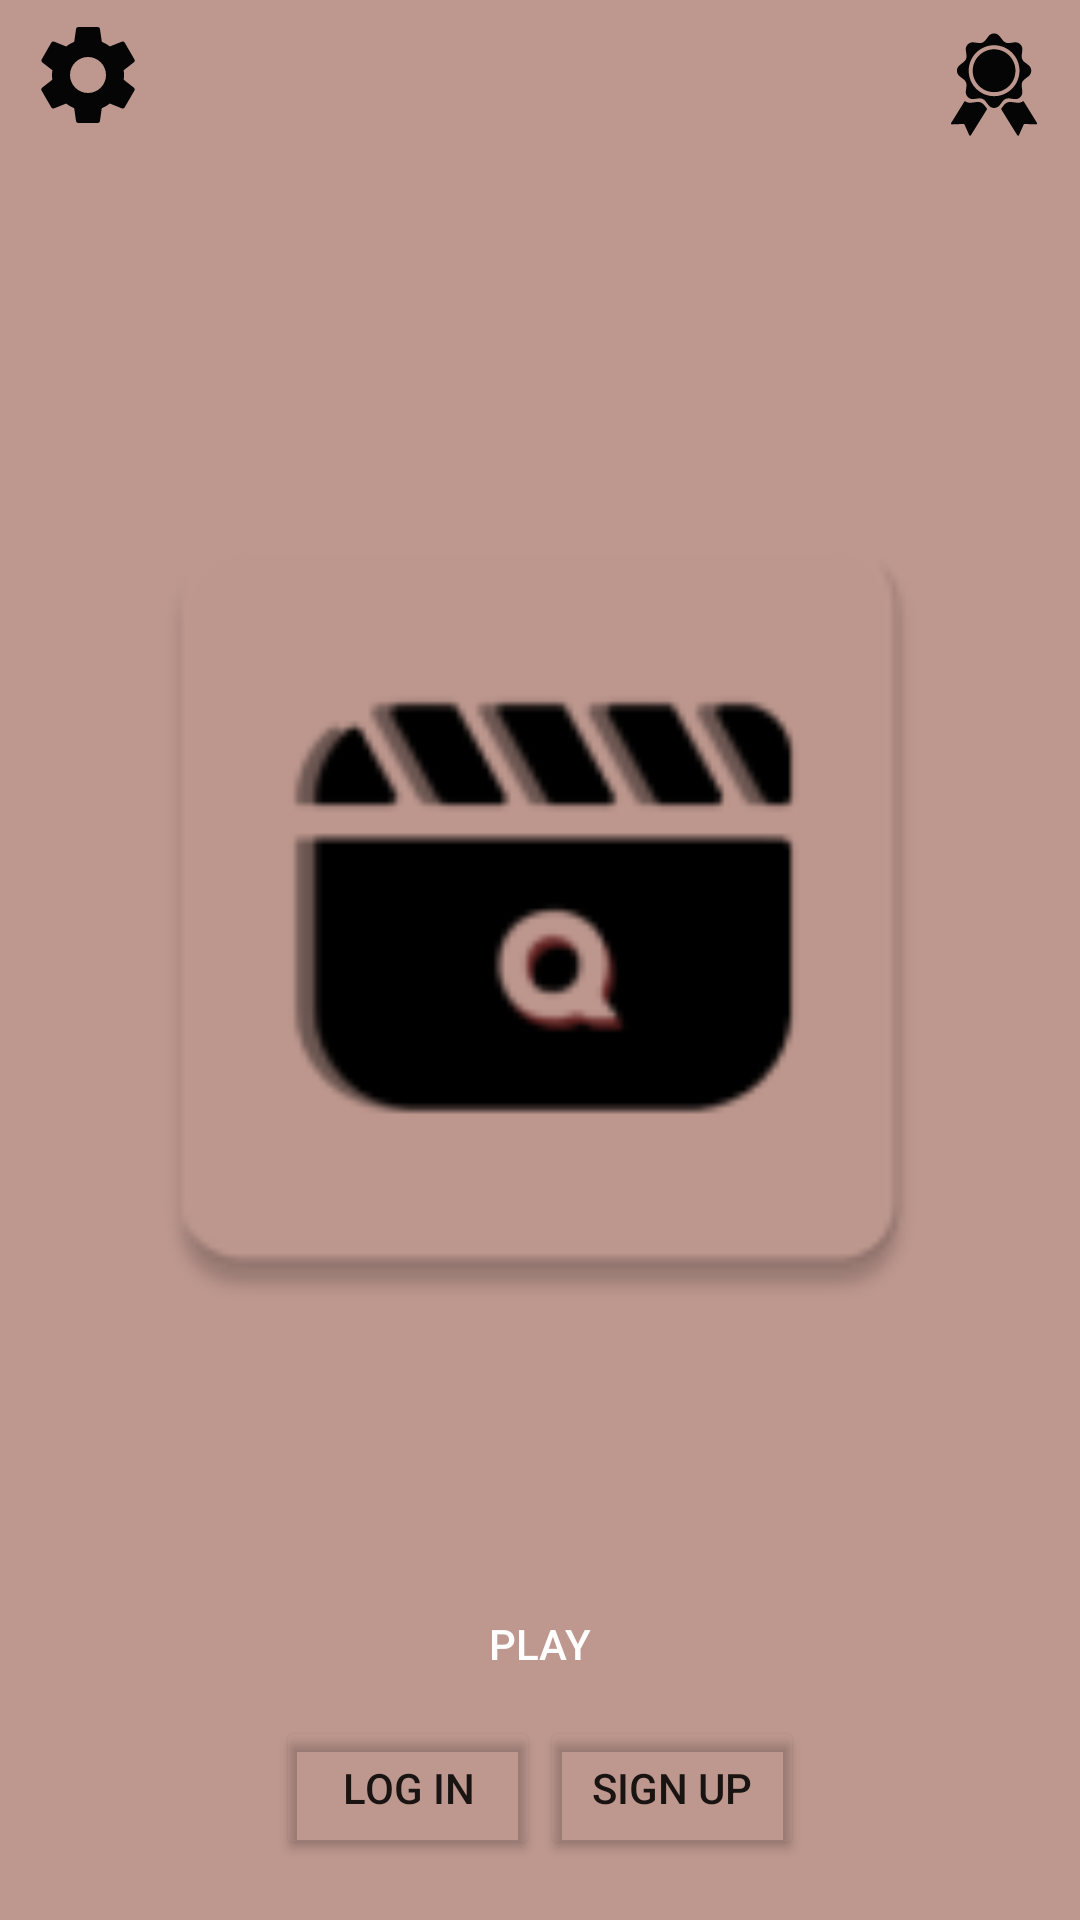

Icons on this 1080×1920 Android screen, each with its box as bbox=[x1, y1, x2, y2]:
achievement: bbox=[951, 33, 1037, 136]
settings: bbox=[41, 27, 135, 123]
